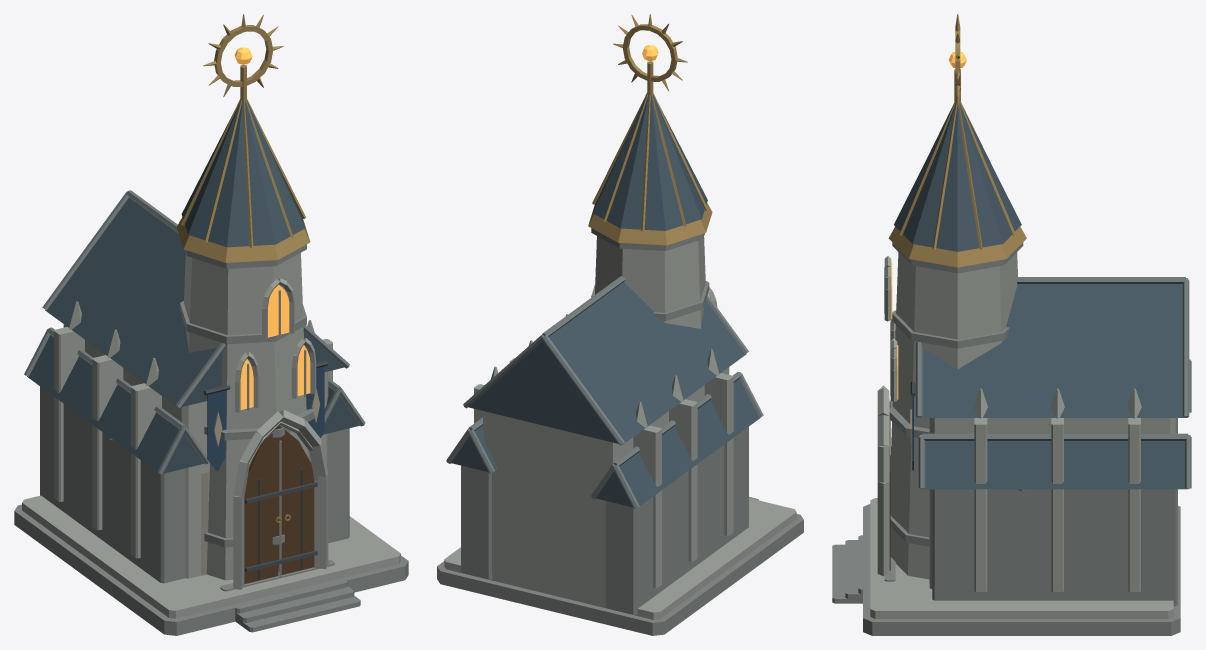
Rendered from dawn.glb.
The picture shows the model from 3 angles, left to right: view 1: azimuth 30°, elevation 25°; view 2: azimuth 150°, elevation 25°; view 3: azimuth 270°, elevation 25°; orthographic projection. The views are drawn at different scales.
Visible parts, largest first — view 1: VIL_DAWN_CHAPEL, VIL_DAWN_WORKSHOP; view 2: VIL_DAWN_CHAPEL; view 3: VIL_DAWN_CHAPEL.
Part boxes in pixels (box(x1,y1,x2,y2)): VIL_DAWN_CHAPEL: box(14, 14, 408, 635); VIL_DAWN_WORKSHOP: box(201, 450, 311, 575); VIL_DAWN_CHAPEL: box(437, 14, 803, 635); VIL_DAWN_CHAPEL: box(832, 14, 1191, 635).
Size of the model in its own units: 5.5 by 12.08 by 7.02.
